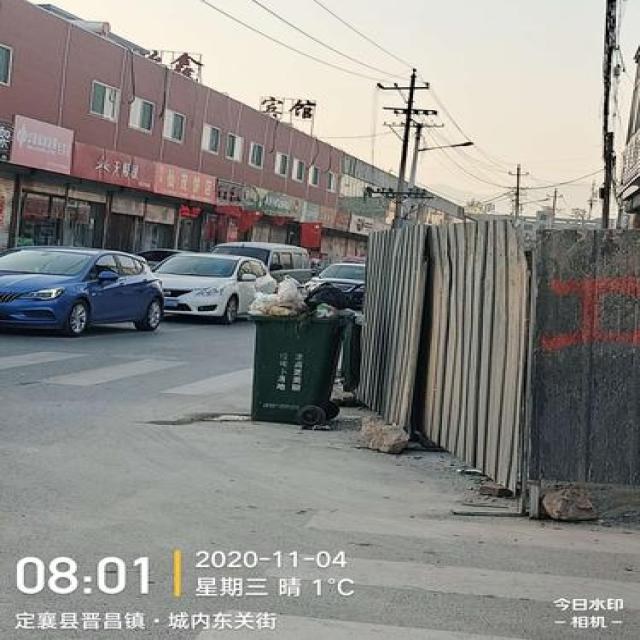overflow: (244, 272, 358, 420)
